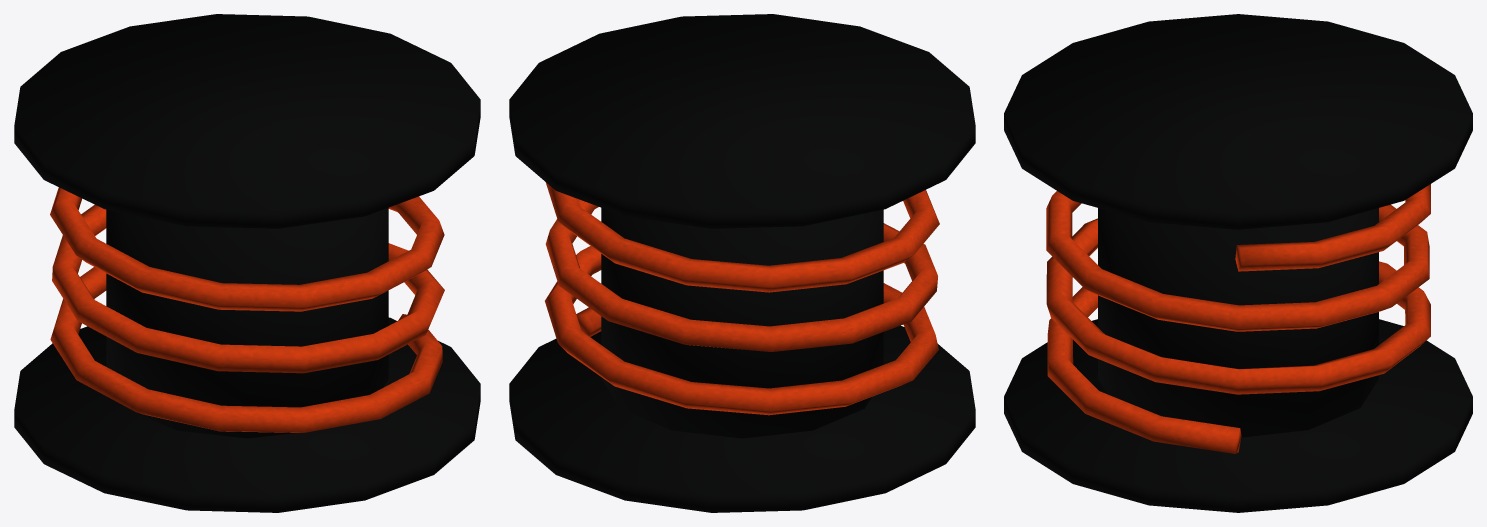
Rendered from TrimmerLine.gltf.
3 views of the same model, side by side, from view 1: azimuth 30°, elevation 25°; view 2: azimuth 150°, elevation 25°; view 3: azimuth 270°, elevation 25° (orthographic).
Visible parts, largest first — view 1: TrimmerLine__Body; view 2: TrimmerLine__Body; view 3: TrimmerLine__Body.
Boxes of the visible parts, x1,y1,x2,y2 form: TrimmerLine__Body: [14, 14, 480, 512]; TrimmerLine__Body: [509, 14, 975, 512]; TrimmerLine__Body: [1004, 14, 1472, 512].
Size of the model in its own units: 0.168 by 0.119 by 0.168.
Materials: 1 (1 with a texture image).
